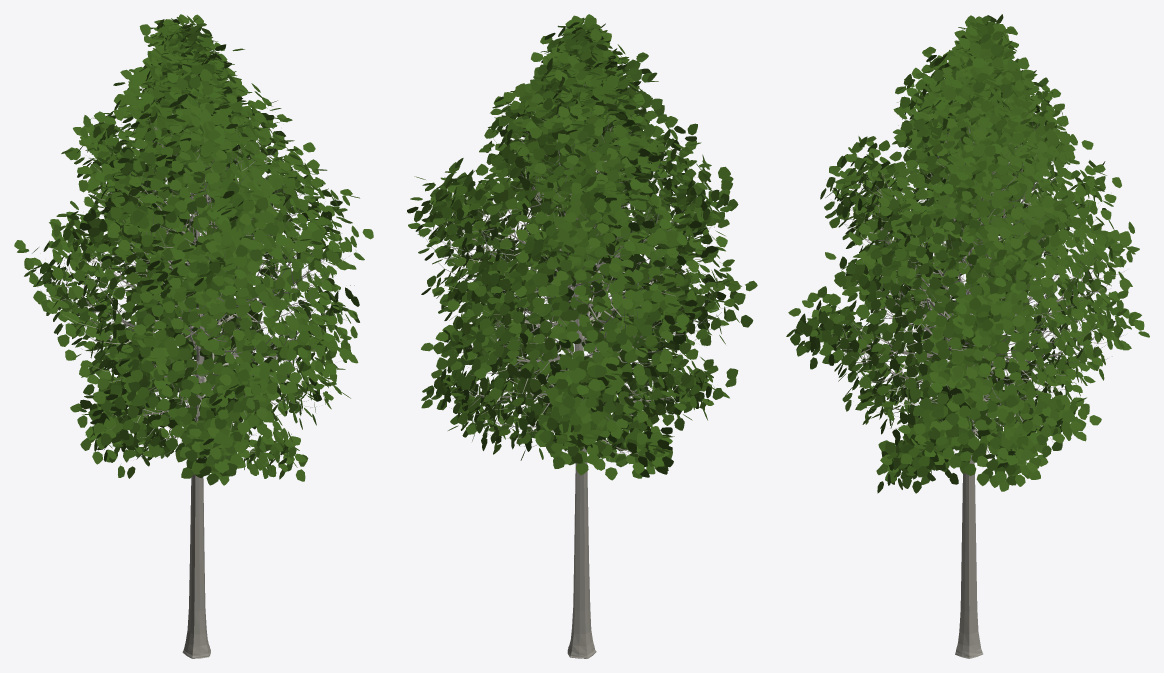
File: quakingAspen.obj
The picture shows the model from 3 angles, left to right: view 1: azimuth 30°, elevation 25°; view 2: azimuth 150°, elevation 25°; view 3: azimuth 270°, elevation 25°; orthographic projection.
Visible parts, largest first — view 1: leaves, leaves2, stems_2, trunk, stems_1; view 2: leaves2, leaves, stems_2, trunk, stems_1; view 3: leaves, leaves2, stems_2, trunk, stems_1.
Part boxes in pixels (x1=…): leaves: x1=15, y1=15, x2=373, y2=485; leaves2: x1=14, y1=14, x2=372, y2=485; stems_2: x1=34, y1=52, x2=345, y2=463; trunk: x1=182, y1=194, x2=210, y2=658; stems_1: x1=61, y1=113, x2=326, y2=453; leaves2: x1=407, y1=15, x2=756, y2=478; leaves: x1=407, y1=14, x2=757, y2=480; stems_2: x1=426, y1=64, x2=727, y2=462; trunk: x1=567, y1=157, x2=596, y2=658; stems_1: x1=449, y1=85, x2=708, y2=453; leaves: x1=788, y1=14, x2=1146, y2=493; leaves2: x1=786, y1=15, x2=1149, y2=491; stems_2: x1=802, y1=93, x2=1124, y2=473; trunk: x1=955, y1=247, x2=983, y2=658; stems_1: x1=832, y1=125, x2=1094, y2=435.
Bounding box in the file's own units: 7.54 × 14.87 × 7.82.
